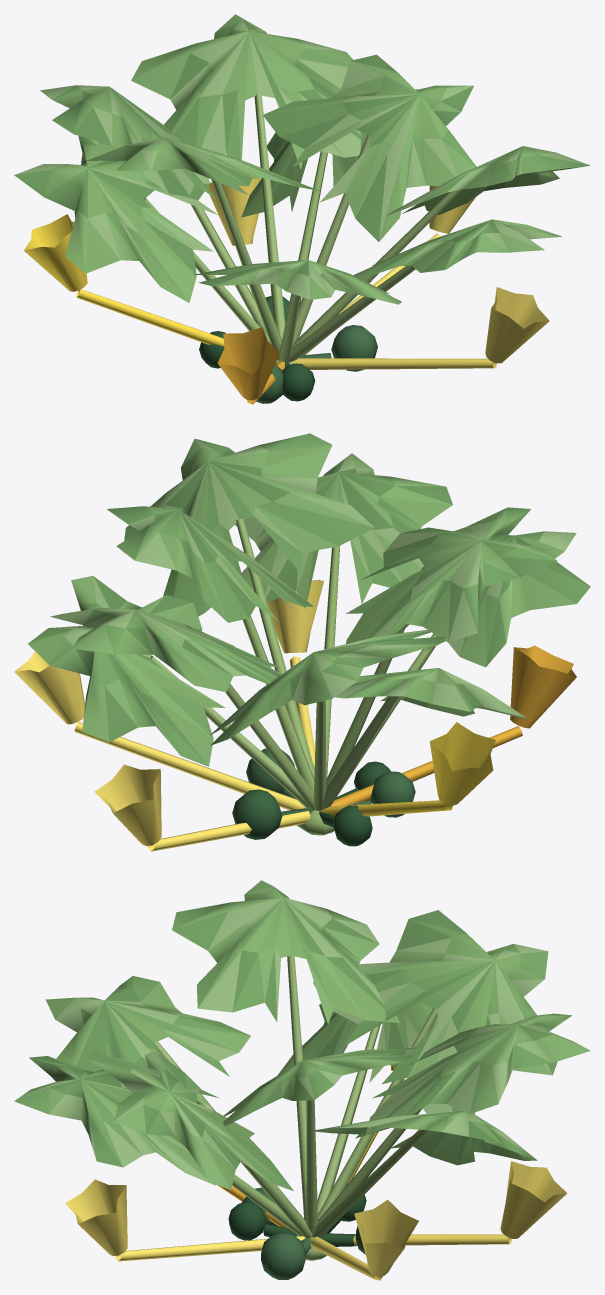
Rendered from courgette_ronde_fruits.glb.
3 views of the same model, one above another, from view 1: azimuth 30°, elevation 25°; view 2: azimuth 150°, elevation 25°; view 3: azimuth 270°, elevation 25° (orthographic). The views are drawn at different scales.
Parts seen in each view (by area): view 1: Courgette_Feuilles, Courgette_Fleurs, Courgette_Petioles, Courgette_Fruits; view 2: Courgette_Feuilles, Courgette_Fleurs, Courgette_Petioles, Courgette_Fruits; view 3: Courgette_Feuilles, Courgette_Fleurs, Courgette_Petioles, Courgette_Fruits.
Part boxes in pixels (box(x1,y1,x2,y2)): Courgette_Feuilles: box(14, 14, 590, 304); Courgette_Fleurs: box(24, 178, 549, 404); Courgette_Petioles: box(144, 94, 461, 362); Courgette_Fruits: box(199, 296, 377, 403); Courgette_Feuilles: box(28, 433, 590, 766); Courgette_Fleurs: box(14, 580, 576, 851); Courgette_Petioles: box(150, 518, 436, 811); Courgette_Fruits: box(232, 748, 415, 846); Courgette_Feuilles: box(14, 880, 590, 1190); Courgette_Fleurs: box(65, 1065, 567, 1280); Courgette_Petioles: box(154, 955, 438, 1238); Courgette_Fruits: box(228, 1184, 366, 1279).
Bounding box in the file's own units: 0.7865 × 0.4893 × 0.8718.
